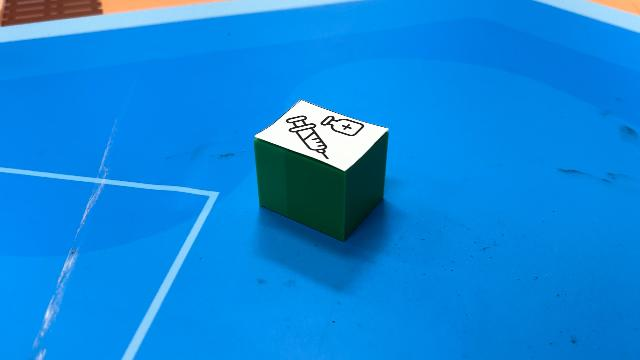syringe: (253, 99, 389, 241)
